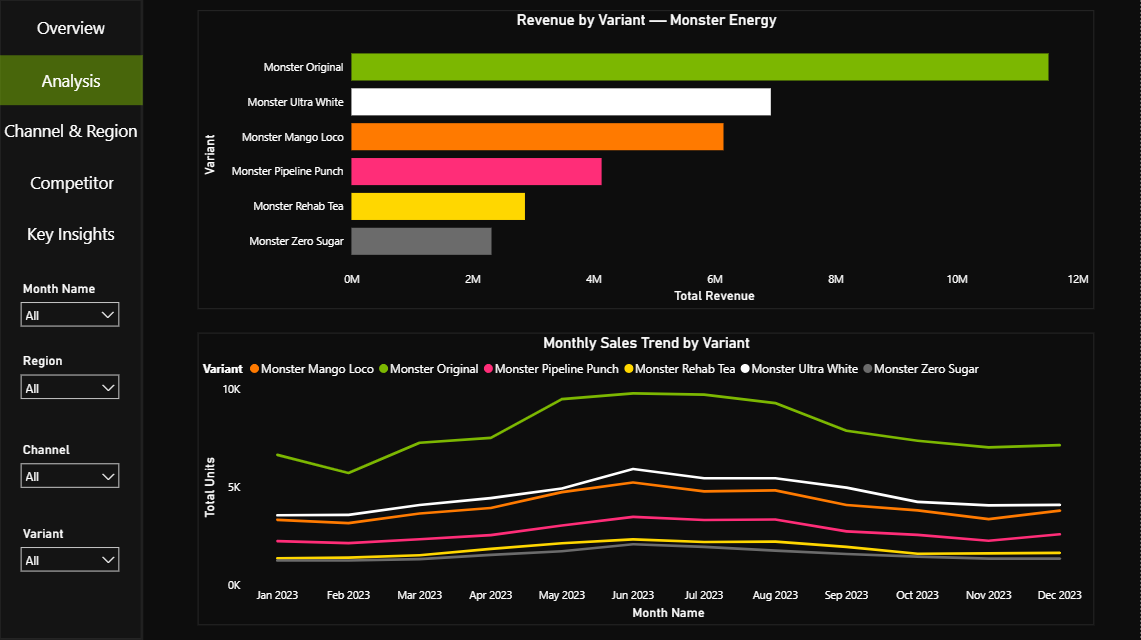

Layout of this report page (visuals, bound fields, positions):
{"tool":"powerbi","page":{"name":"Variant Analysis","canvas":[1280,720],"ordinal":1},"visuals":[{"type":"clusteredBarChart","title":"Revenue by Variant — Monster Energy","fields":{"Category":["Monster_Energy_Sales_Data.Variant"],"Y":["DateTable.Total Revenue"]},"box":[223,12.6,1005.4,335.1],"z":0},{"type":"lineChart","title":"Monthly Sales Trend by Variant","fields":{"Category":["DateTable.Month Name"],"Y":["DateTable.Total Units"],"Series":["Monster_Energy_Sales_Data.Variant"]},"box":[223,374.4,1005.4,328.1],"z":1000},{"type":"shape","box":[0,0,161.3,719.4],"z":2000},{"type":"actionButton","title":"Overview","box":[0,0,161.3,63.1],"z":3000},{"type":"actionButton","box":[0,63.1,161.3,56.1],"z":4000},{"type":"actionButton","box":[0,119.2,161.3,56.1],"z":5000},{"type":"actionButton","box":[1.4,175.3,161.3,60.3],"z":6000},{"type":"actionButton","box":[0,235.6,161.3,53.3],"z":7000},{"type":"slicer","fields":{"Values":["DateTable.Month Name"]},"box":[14,311.3,130.4,74.3],"z":8000},{"type":"slicer","fields":{"Values":["Monster_Energy_Sales_Data.Region"]},"box":[14,393,131,74],"z":9000},{"type":"slicer","fields":{"Values":["Monster_Energy_Sales_Data.Channel"]},"box":[14,492,131,75],"z":10000},{"type":"slicer","fields":{"Values":["Monster_Energy_Sales_Data.Variant"]},"box":[14,586,131,74],"z":11000}]}

Visuals, with their boxes on the page's 1280x720 design canvas (x1, y1, x2, y2). These are canvas units, not pixel positions in the 1141x640 screenshot, which may show the page scaled, cropped or inside an application window:
"Revenue by Variant — Monster Energy" clusteredBarChart: 223 13 1228 348
"Monthly Sales Trend by Variant" lineChart: 223 374 1228 702
shape: 0 0 161 719
"Overview" actionButton: 0 0 161 63
actionButton: 0 63 161 119
actionButton: 0 119 161 175
actionButton: 1 175 163 236
actionButton: 0 236 161 289
slicer - DateTable.Month Name: 14 311 144 386
slicer - Monster_Energy_Sales_Data.Region: 14 393 145 467
slicer - Monster_Energy_Sales_Data.Channel: 14 492 145 567
slicer - Monster_Energy_Sales_Data.Variant: 14 586 145 660
